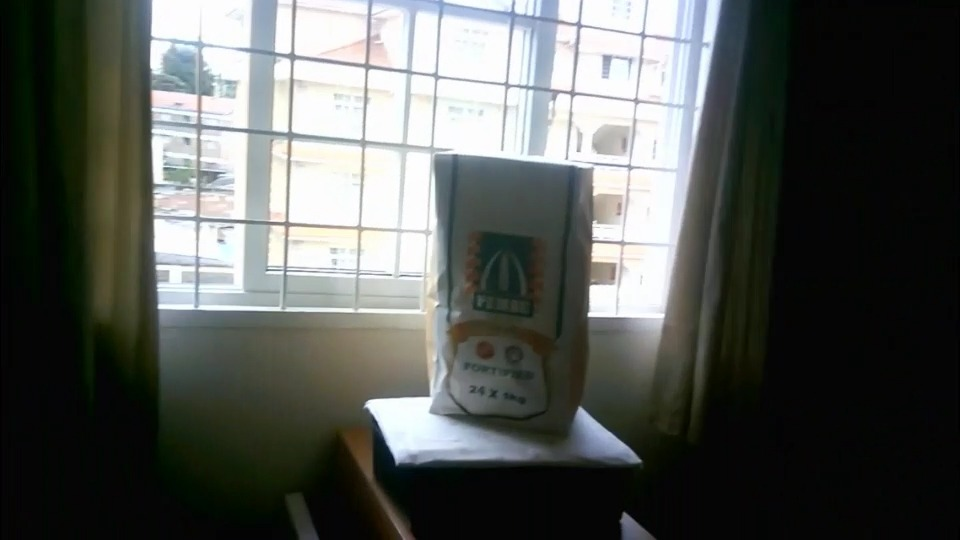maize_flour_green_label: (432, 148, 590, 437)
